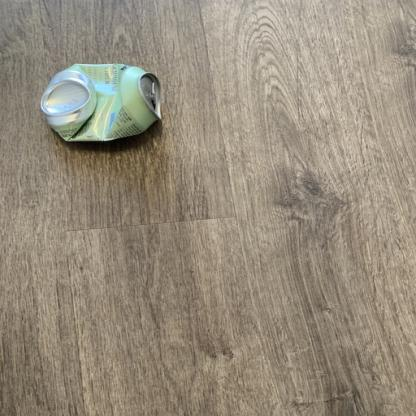trash: (37, 45, 172, 151)
